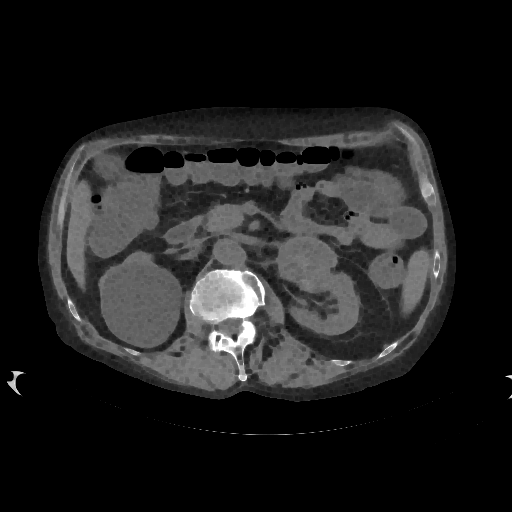Lesion: (271, 234, 339, 287)
